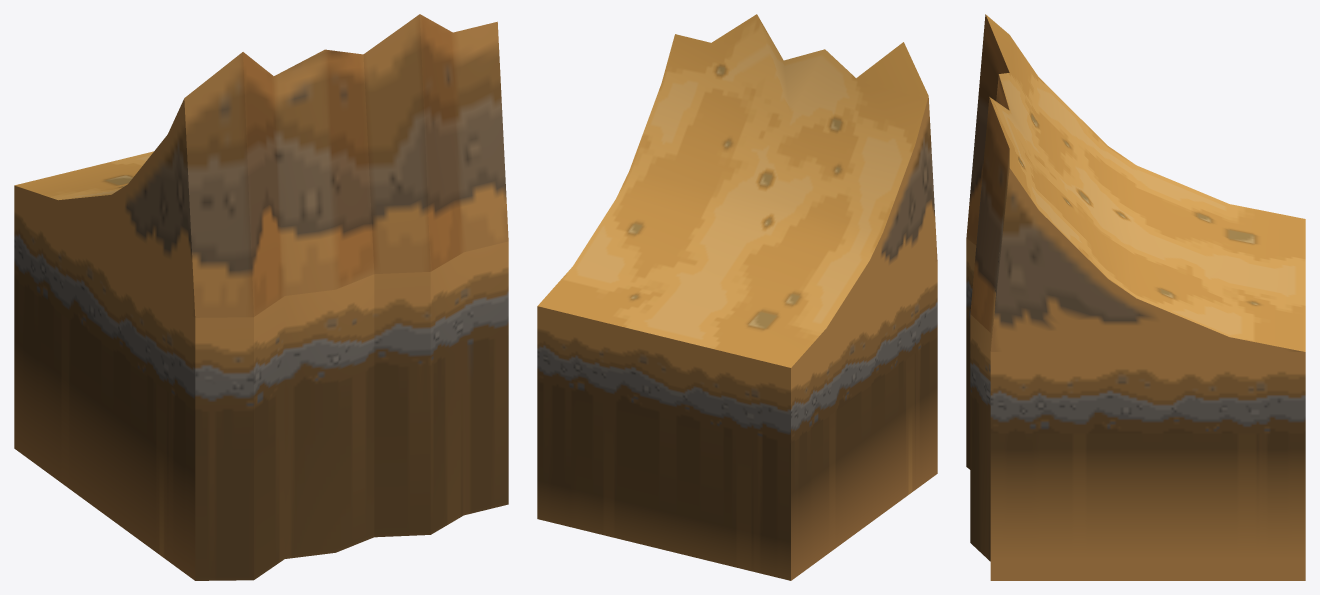
The model's file is Modulo_rampa_plus.FBX.
3 views of the same model, side by side, from view 1: azimuth 30°, elevation 25°; view 2: azimuth 150°, elevation 25°; view 3: azimuth 270°, elevation 25° (orthographic). The views are drawn at different scales.
Visible parts, largest first — view 1: Modulo_rampa_plus; view 2: Modulo_rampa_plus; view 3: Modulo_rampa_plus.
Part boxes in pixels (<box>): Modulo_rampa_plus: <box>14,14,508,580</box>; Modulo_rampa_plus: <box>537,14,937,580</box>; Modulo_rampa_plus: <box>966,14,1305,580</box>.
Size of the model in its own units: 100 by 159 by 108.
